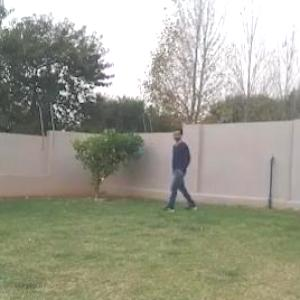follow: (169, 124, 191, 215)
